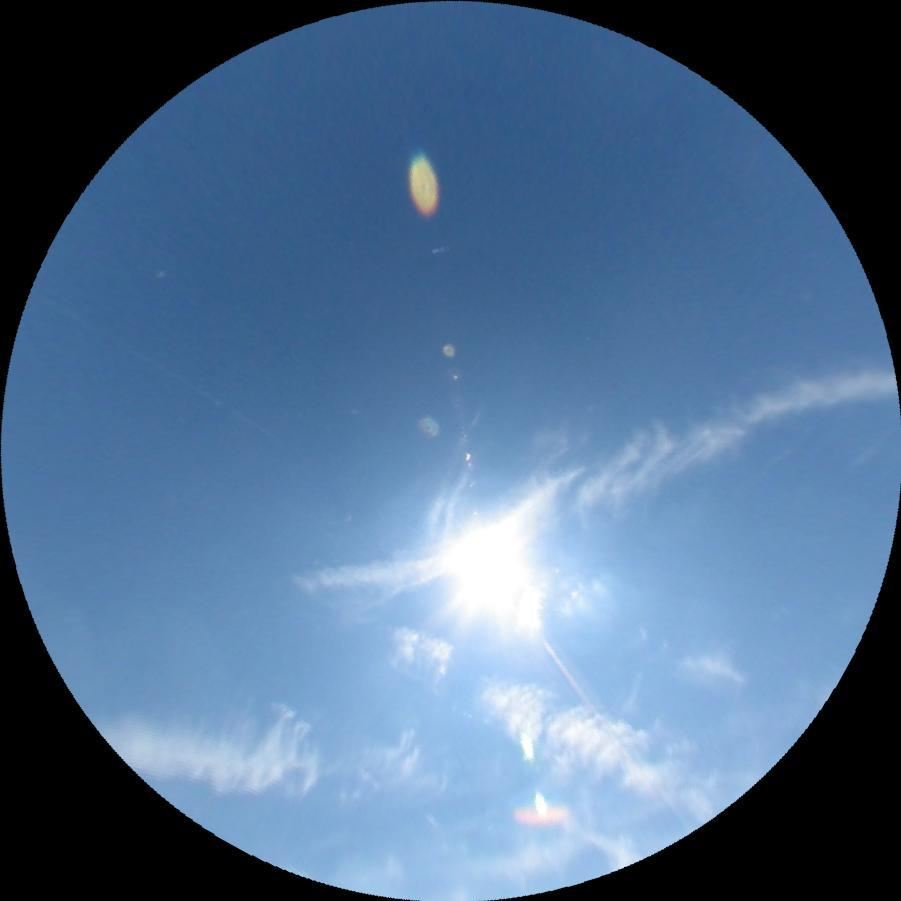contrail veryold: (282, 322, 901, 646), (378, 612, 673, 795)
parasite: (533, 629, 603, 721)
sun: (452, 526, 532, 612)
